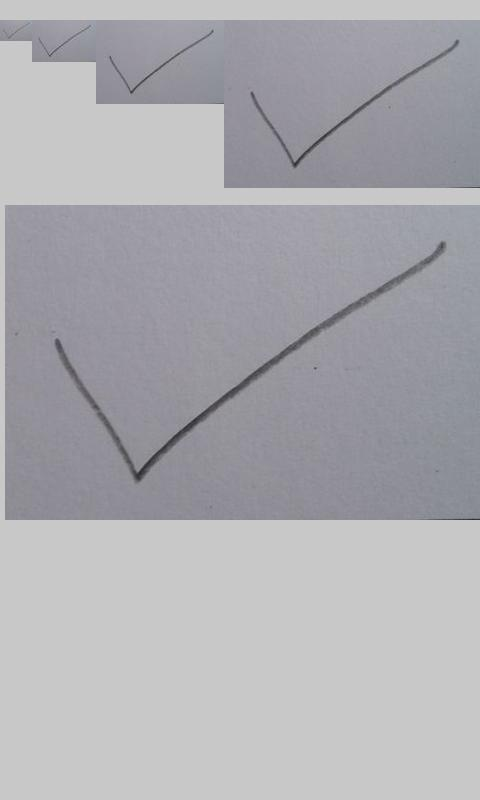check_box: (54, 242, 447, 483), (249, 39, 460, 168), (110, 30, 215, 94), (39, 25, 91, 57), (3, 22, 30, 39)
